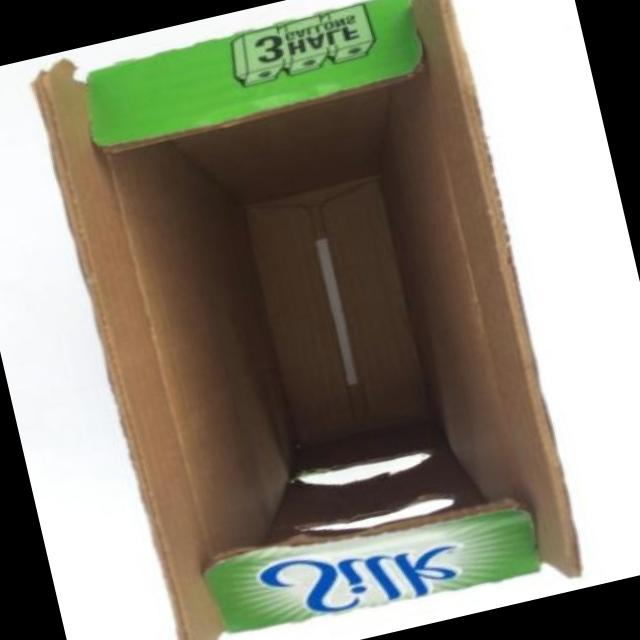cardboard paper: (36, 0, 581, 640)
